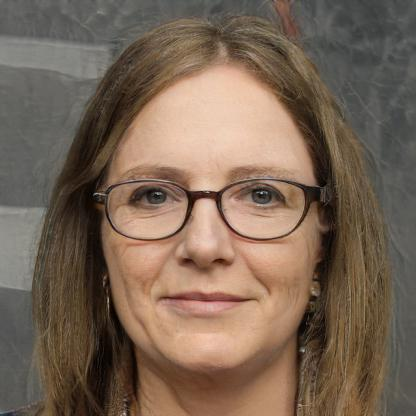glasses: (89, 171, 318, 244)
